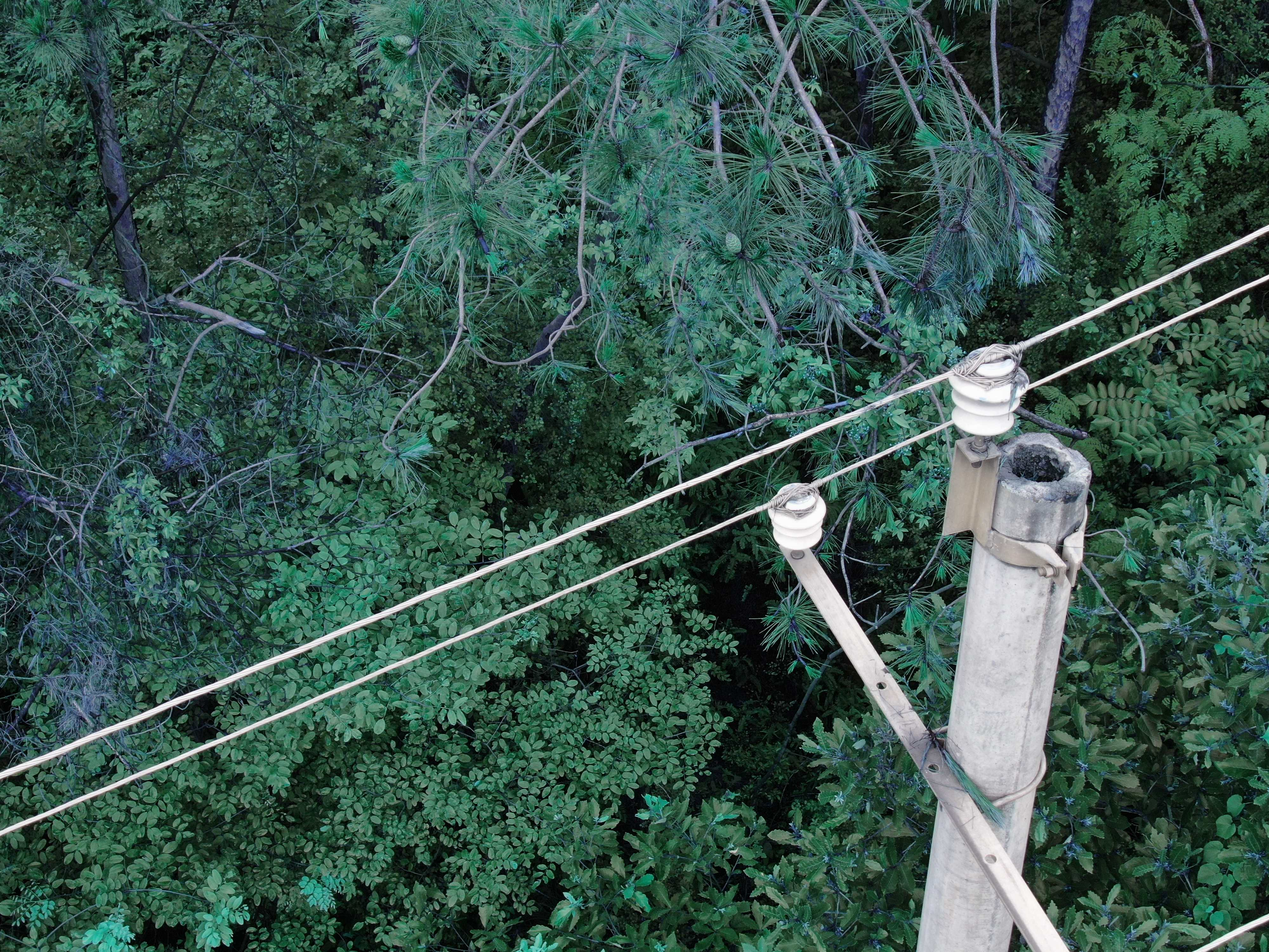severe_soiling_no_discharge_whole: (944, 342, 1033, 441)
